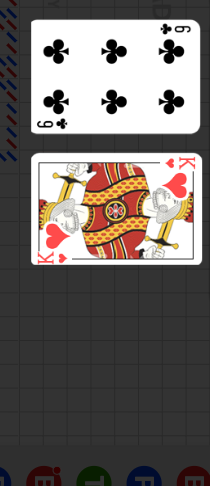6C: (158, 23, 192, 37)
KH: (36, 251, 69, 265)
